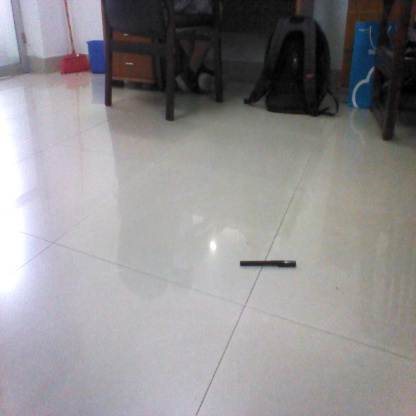pen: (236, 260, 297, 269)
